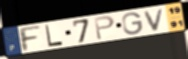7: (72, 17, 91, 44)
F: (17, 25, 43, 53)
G: (121, 11, 144, 36)
L: (44, 24, 64, 48)
P: (93, 14, 117, 41)
V: (143, 7, 166, 32)
